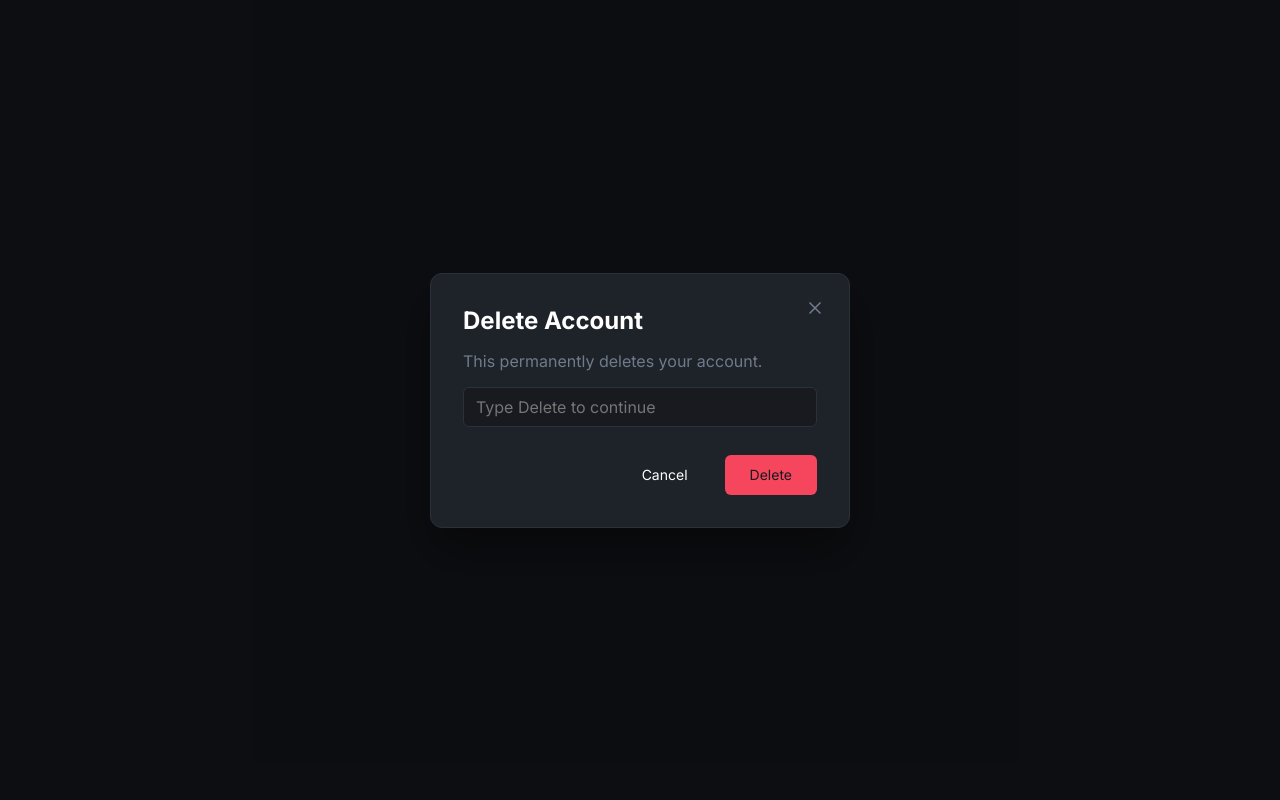
Test: should reject an incorrect confirmation
Type "delete" into the field with placeholder "Type Delete to continue".
click(640, 406); type("delete")  # box [463, 386, 817, 426]
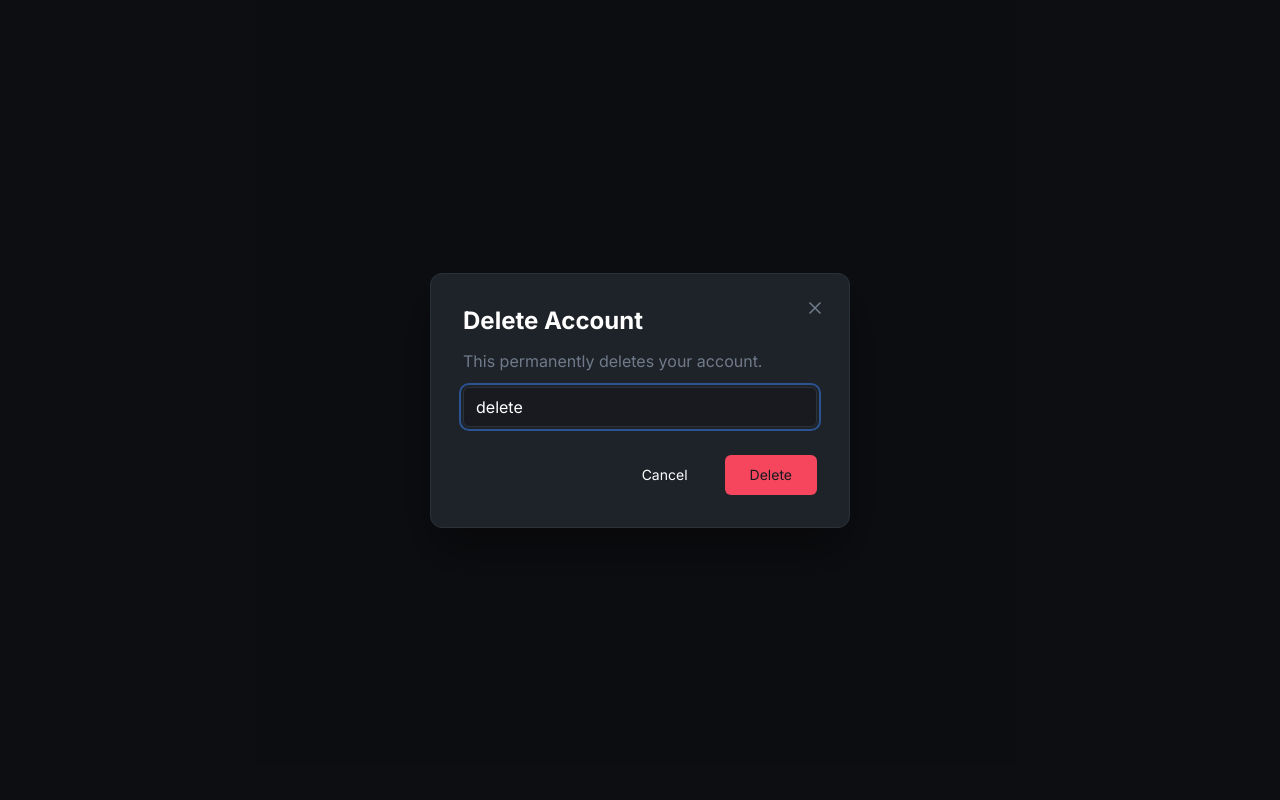
Click the button "Delete".
click(771, 474)  # box [725, 454, 817, 494]
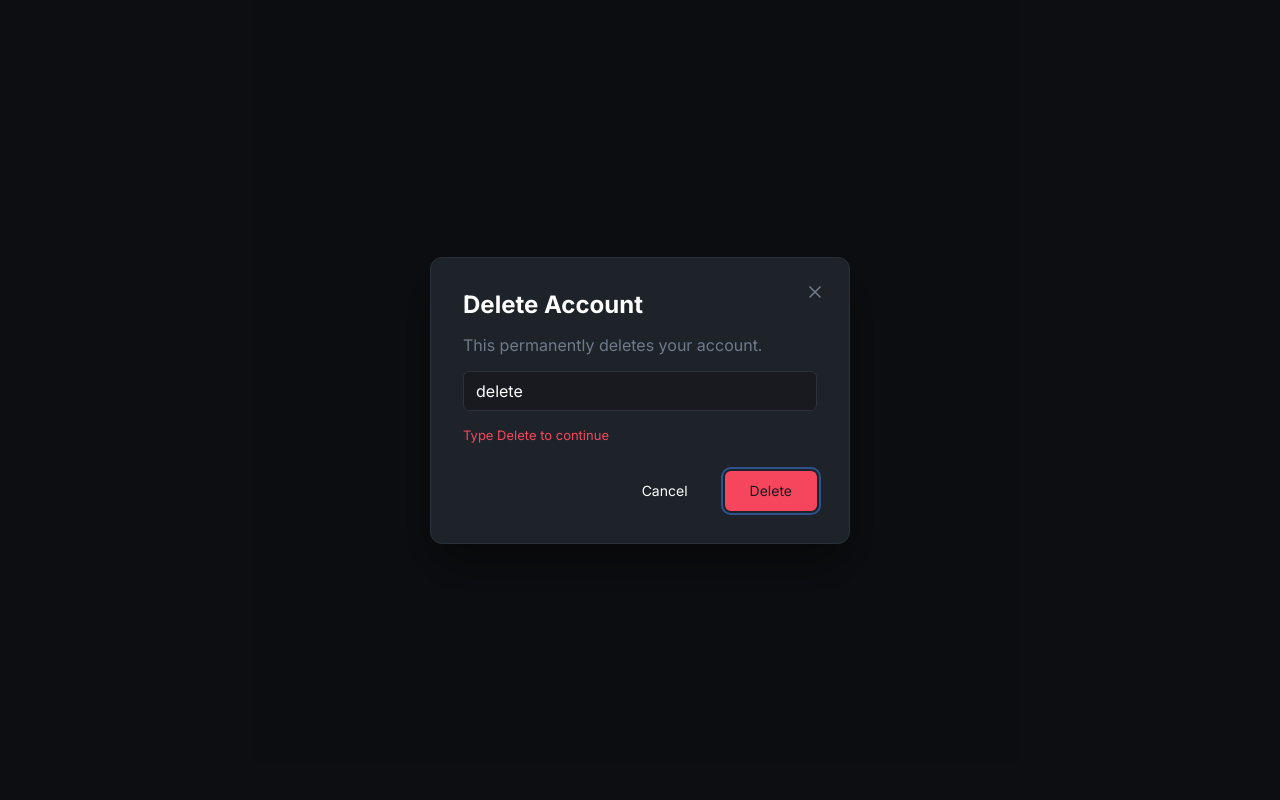
Check: the text "Type Delete to continue" is shown, box [463, 426, 609, 442]
